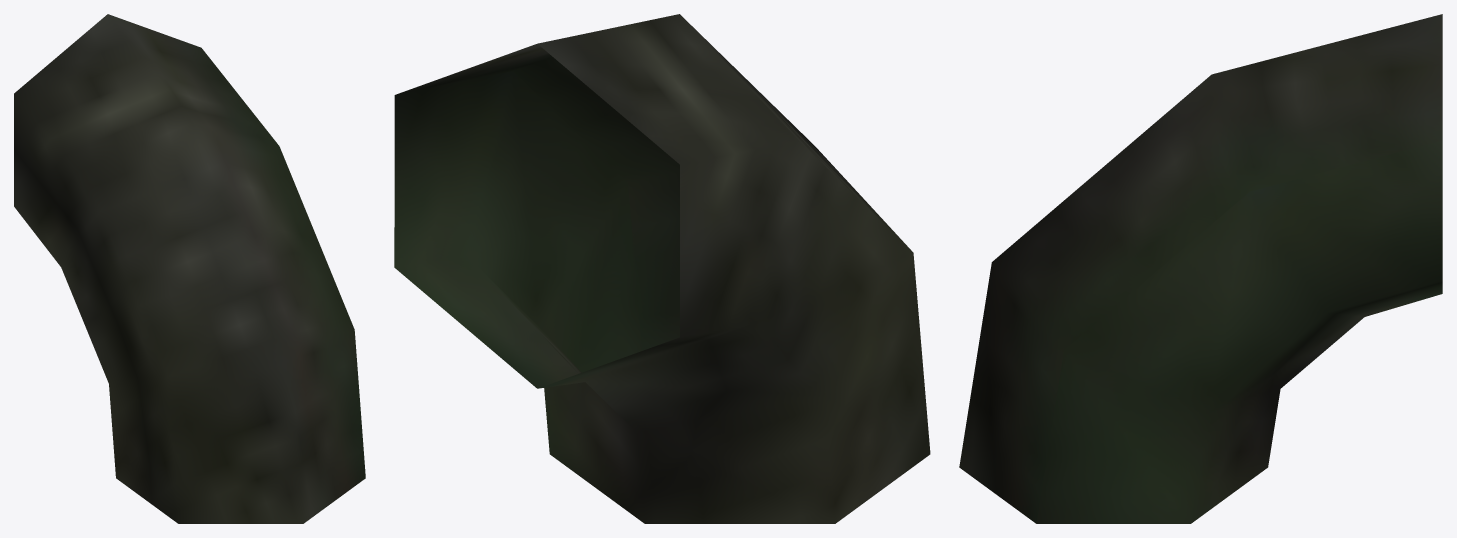
Rendered from MossyThin_Turn.FBX.
3 renders of one model, left to right at view 1: azimuth 30°, elevation 25°; view 2: azimuth 150°, elevation 25°; view 3: azimuth 270°, elevation 25°, orthographic. The views are drawn at different scales.
Visible parts, largest first — view 1: MossyThin_Turn; view 2: MossyThin_Turn; view 3: MossyThin_Turn.
Boxes of the visible parts, x1,y1,x2,y2 form: MossyThin_Turn: [14, 14, 365, 523]; MossyThin_Turn: [394, 14, 930, 523]; MossyThin_Turn: [959, 14, 1442, 523].
Bounding box in the file's own units: 7.89 × 14.77 × 14.27.
